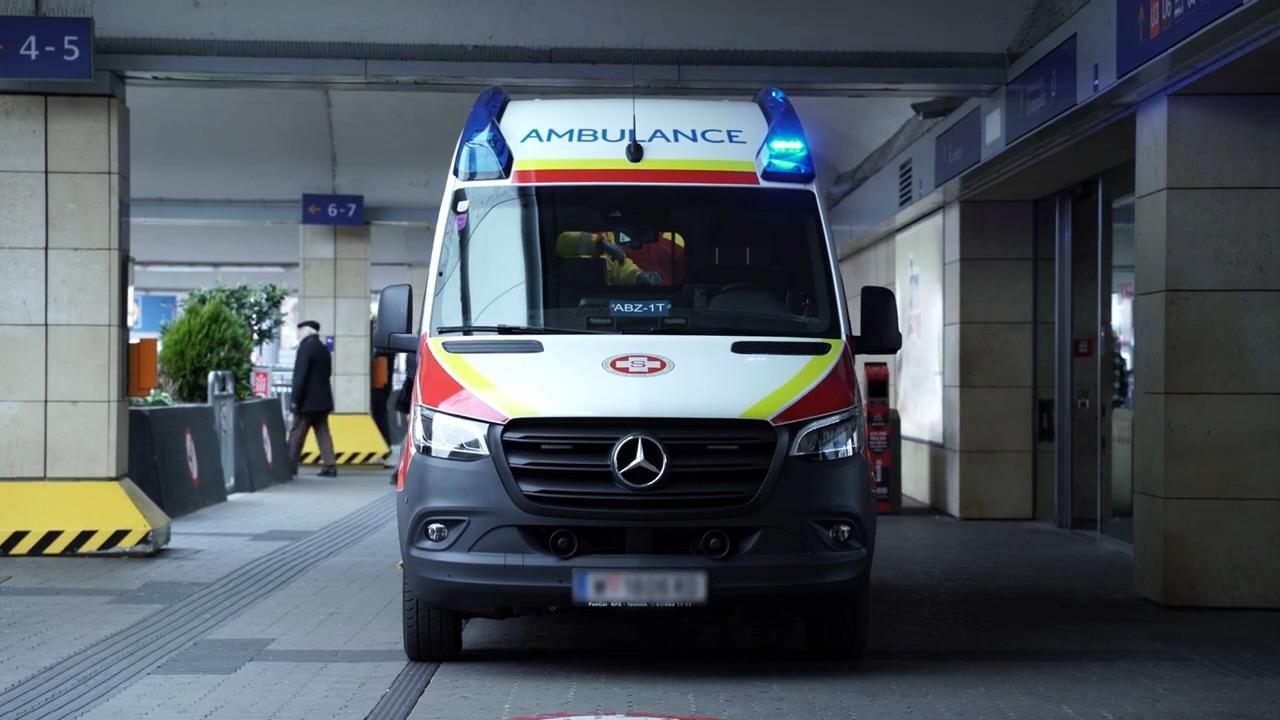car: (383, 81, 902, 664)
